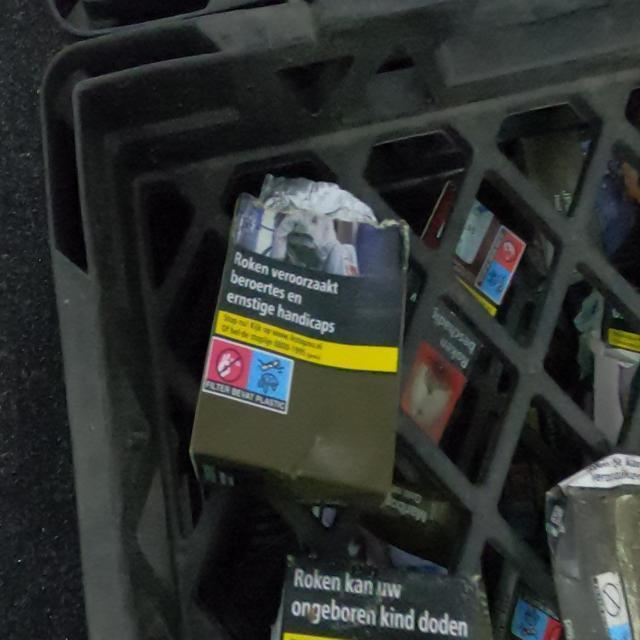Paper: (193, 176, 400, 502), (400, 173, 528, 448), (269, 547, 493, 640), (542, 448, 640, 639)
